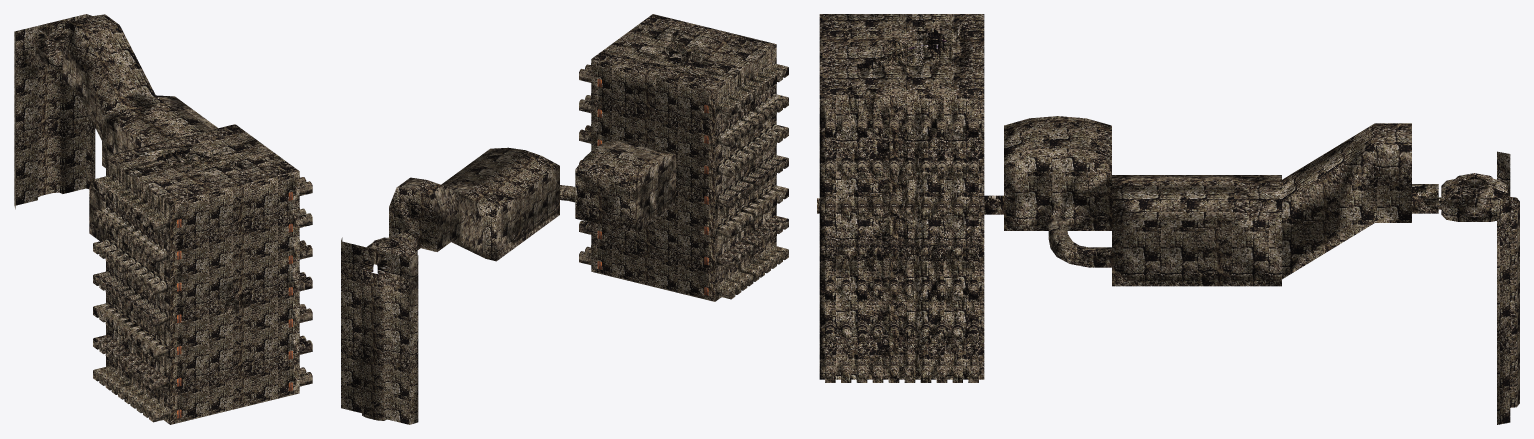
The model's file is updatedWalls.glb.
3 views of the same model, side by side, from view 1: azimuth 30°, elevation 25°; view 2: azimuth 150°, elevation 25°; view 3: azimuth 270°, elevation 25° (orthographic). The views are drawn at different scales.
Visible parts, largest first — view 1: walls; view 2: walls; view 3: walls.
Boxes of the visible parts, x1=… form: walls: x1=14, y1=14, x2=312, y2=424; walls: x1=341, y1=14, x2=788, y2=424; walls: x1=817, y1=14, x2=1519, y2=424.
Size of the model in its own units: 114 by 123 by 264.
3 materials, 3 textured.
